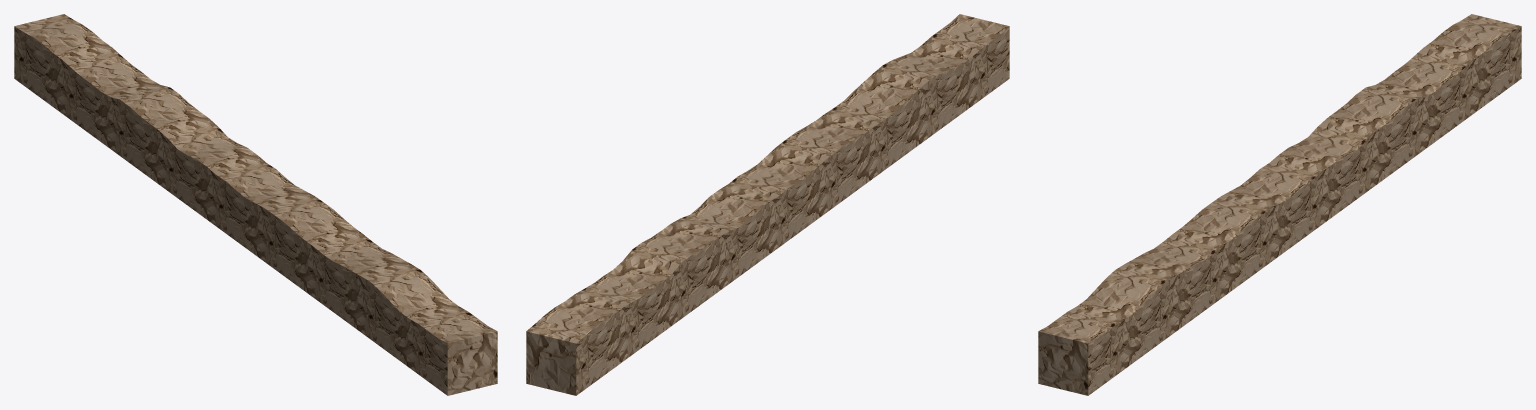
The model's file is Terain.fbx.
3 views of the same model, side by side, from view 1: azimuth 30°, elevation 25°; view 2: azimuth 150°, elevation 25°; view 3: azimuth 330°, elevation 25° (orthographic).
Parts seen in each view (by area): view 1: polySurface2; view 2: polySurface2; view 3: polySurface2.
Boxes of the visible parts, x1=… form: polySurface2: x1=14, y1=14, x2=497, y2=395; polySurface2: x1=526, y1=14, x2=1009, y2=395; polySurface2: x1=1038, y1=14, x2=1521, y2=395.
Bounding box in the file's own units: 300 × 329 × 4500.
Materials: 1 (1 with a texture image).
